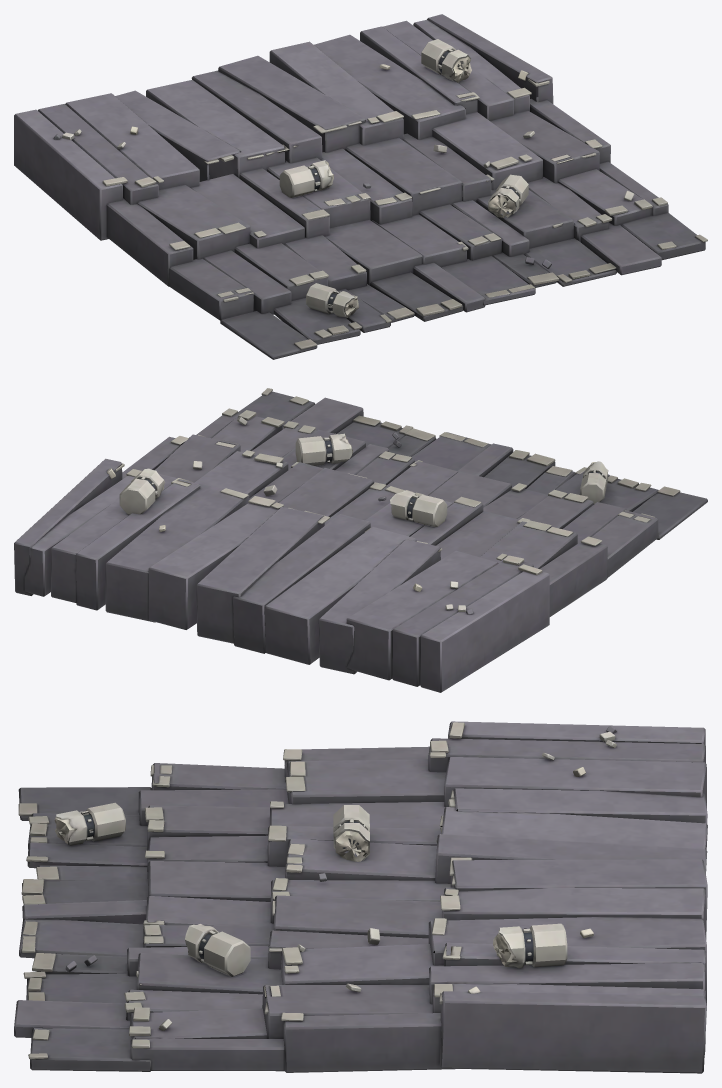
Rendered from skirt_bridge.glb.
3 views of the same model, one above another, from view 1: azimuth 30°, elevation 25°; view 2: azimuth 150°, elevation 25°; view 3: azimuth 270°, elevation 25° (orthographic). The views are drawn at different scales.
Parts seen in each view (by area): view 1: skirt_bridge_body; view 2: skirt_bridge_body; view 3: skirt_bridge_body.
Part boxes in pixels (left/top/right/bottom): skirt_bridge_body: left=14, top=14, right=707, bottom=359; skirt_bridge_body: left=14, top=388, right=707, bottom=692; skirt_bridge_body: left=14, top=721, right=707, bottom=1073.
Size of the model in its own units: 24.52 by 4.26 by 25.14.
1 material, 1 textured.
